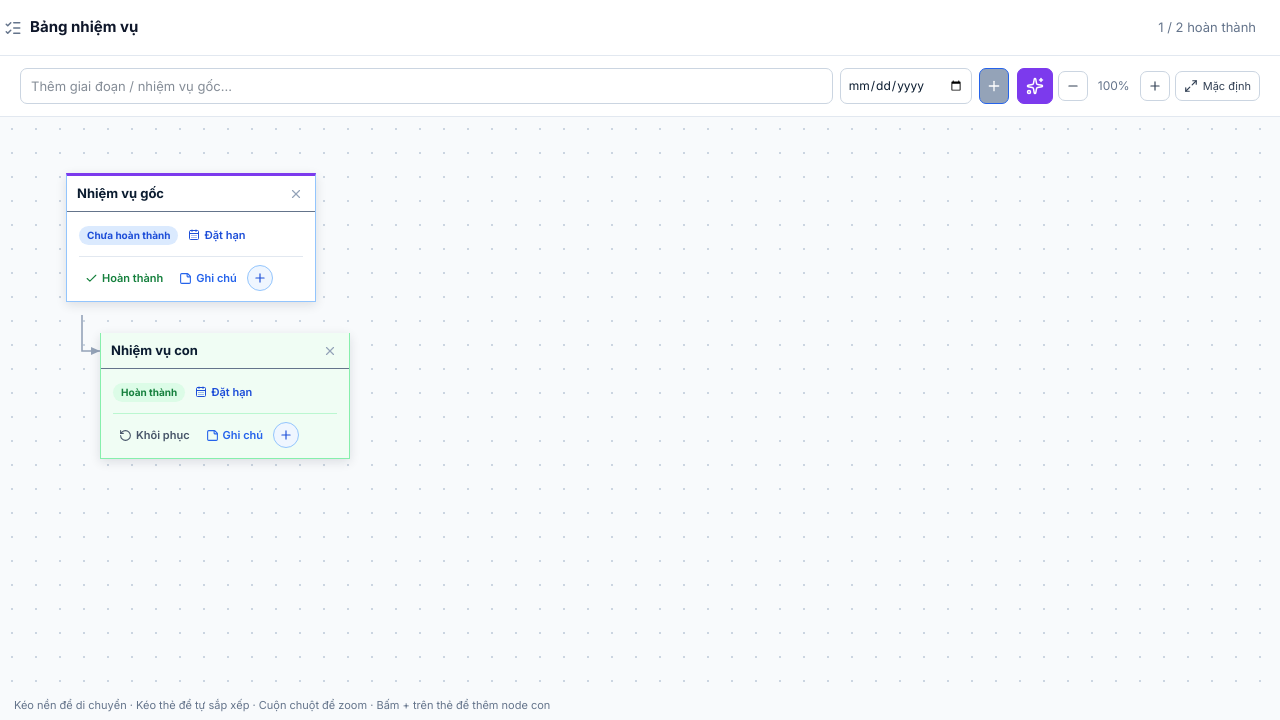
Test: group task deadline lifecycle › supports child and AI-generated completed tasks without changing their other fields
This screenshot has width=1280, height=720.
Click the button with aria-label "Chỉnh sửa hạn hoàn thành: Nhiệm vụ con" at (224, 392), box [189,379,258,405]
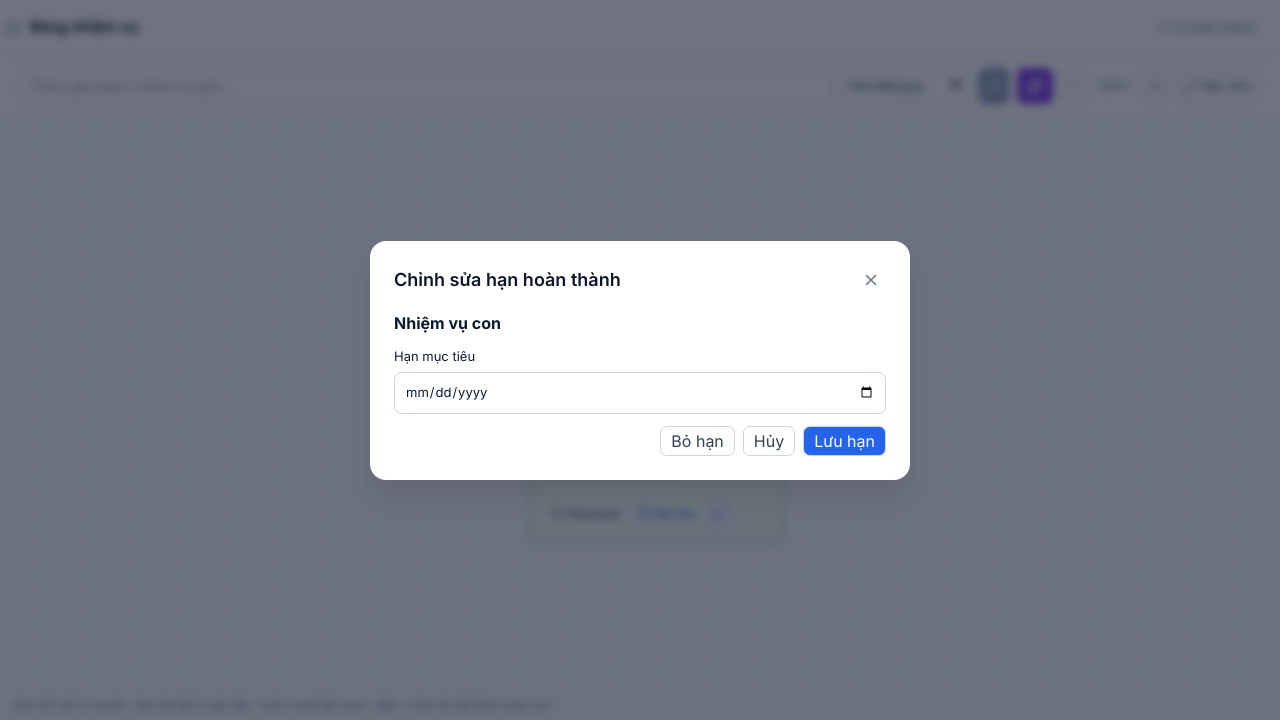
Type "2090-10-01" into the date field labelled "Hạn mục tiêu" at (640, 393), box [394,372,886,414]
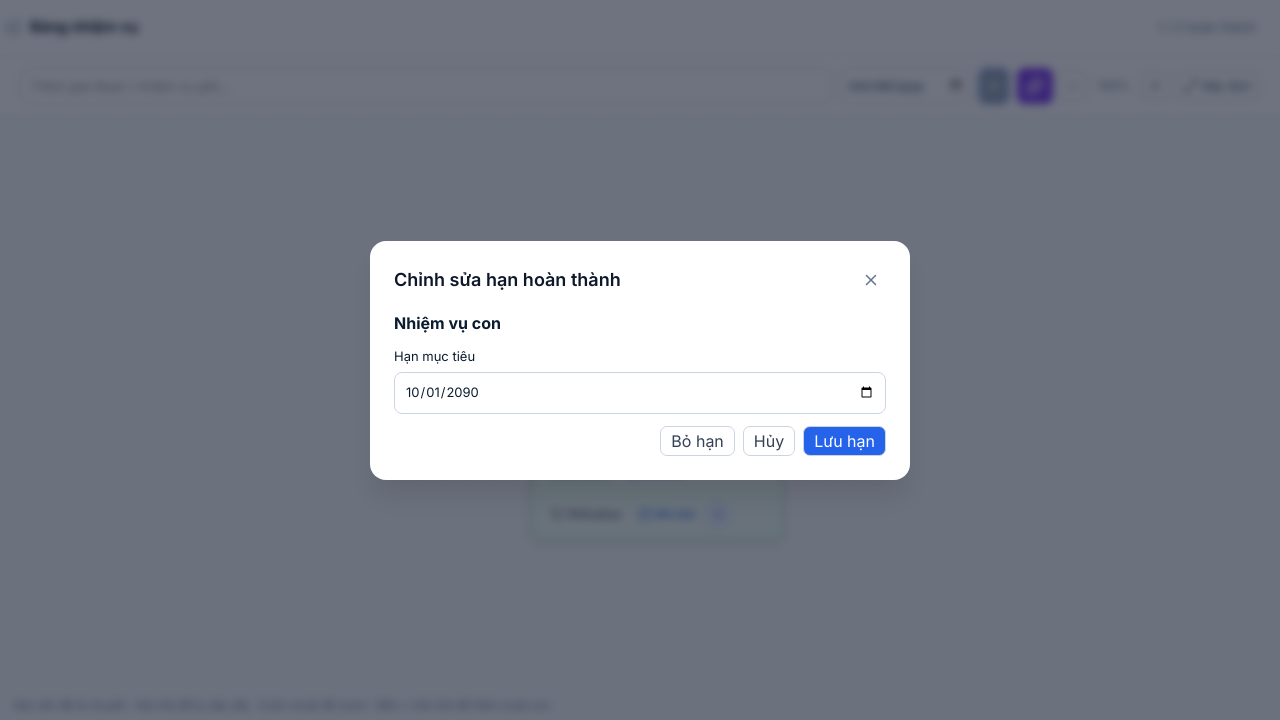
Click the button "Lưu hạn" at (845, 440), box [803,426,886,456]
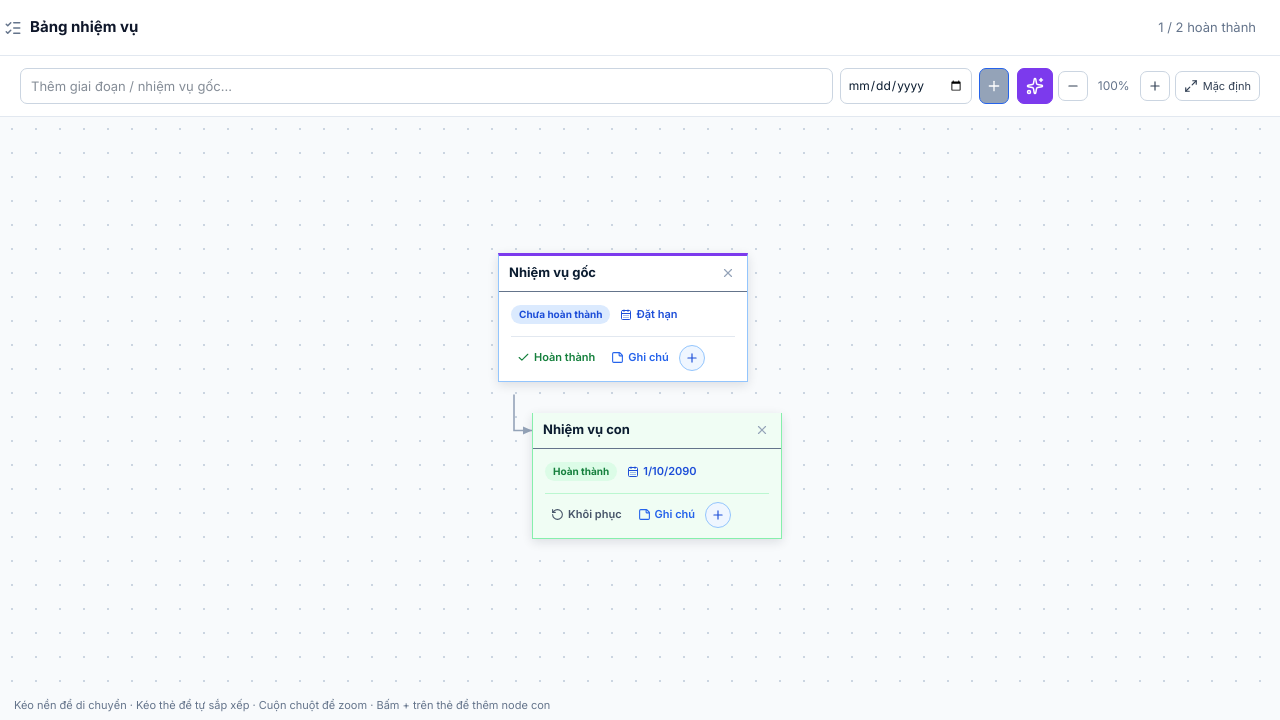
Result: the label labelled "Hạn mục tiêu" is gone
